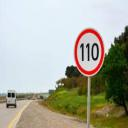speed_limit_110: (75, 28, 103, 75)
